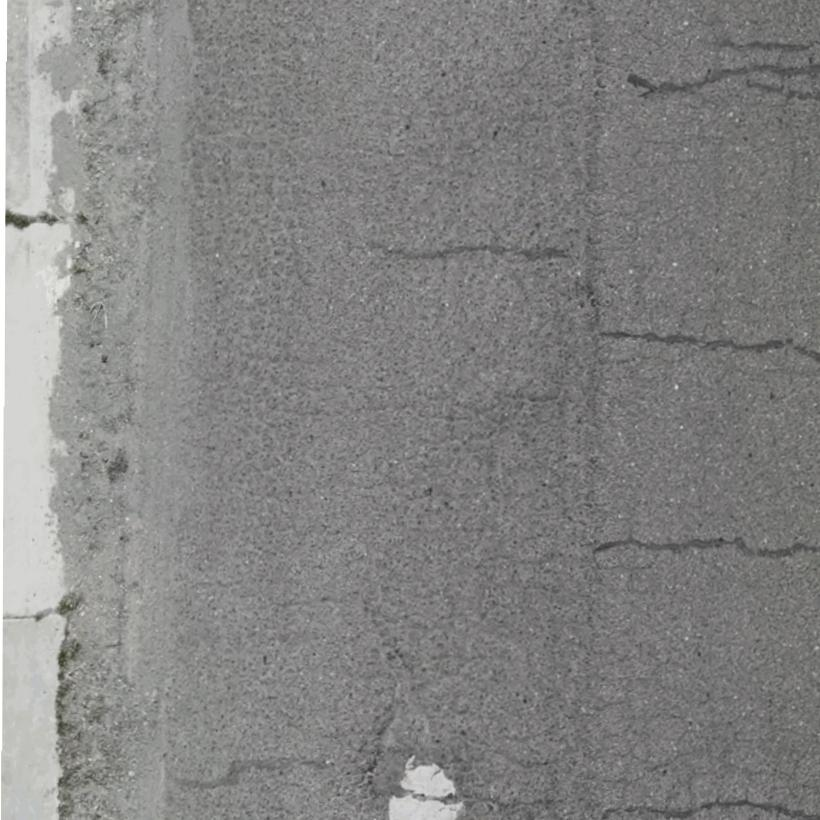GRIETA: (605, 331, 819, 363), (628, 64, 819, 94), (172, 756, 331, 790), (610, 535, 819, 558), (744, 80, 819, 100), (370, 242, 449, 259), (716, 39, 819, 52)
PIEL DE COCODRILO: (352, 57, 819, 819), (178, 122, 313, 655)
